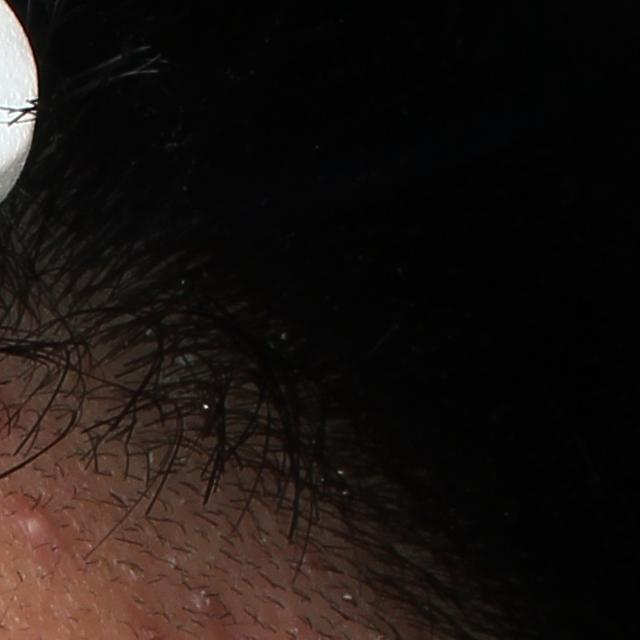pustule: (9, 494, 56, 543)
